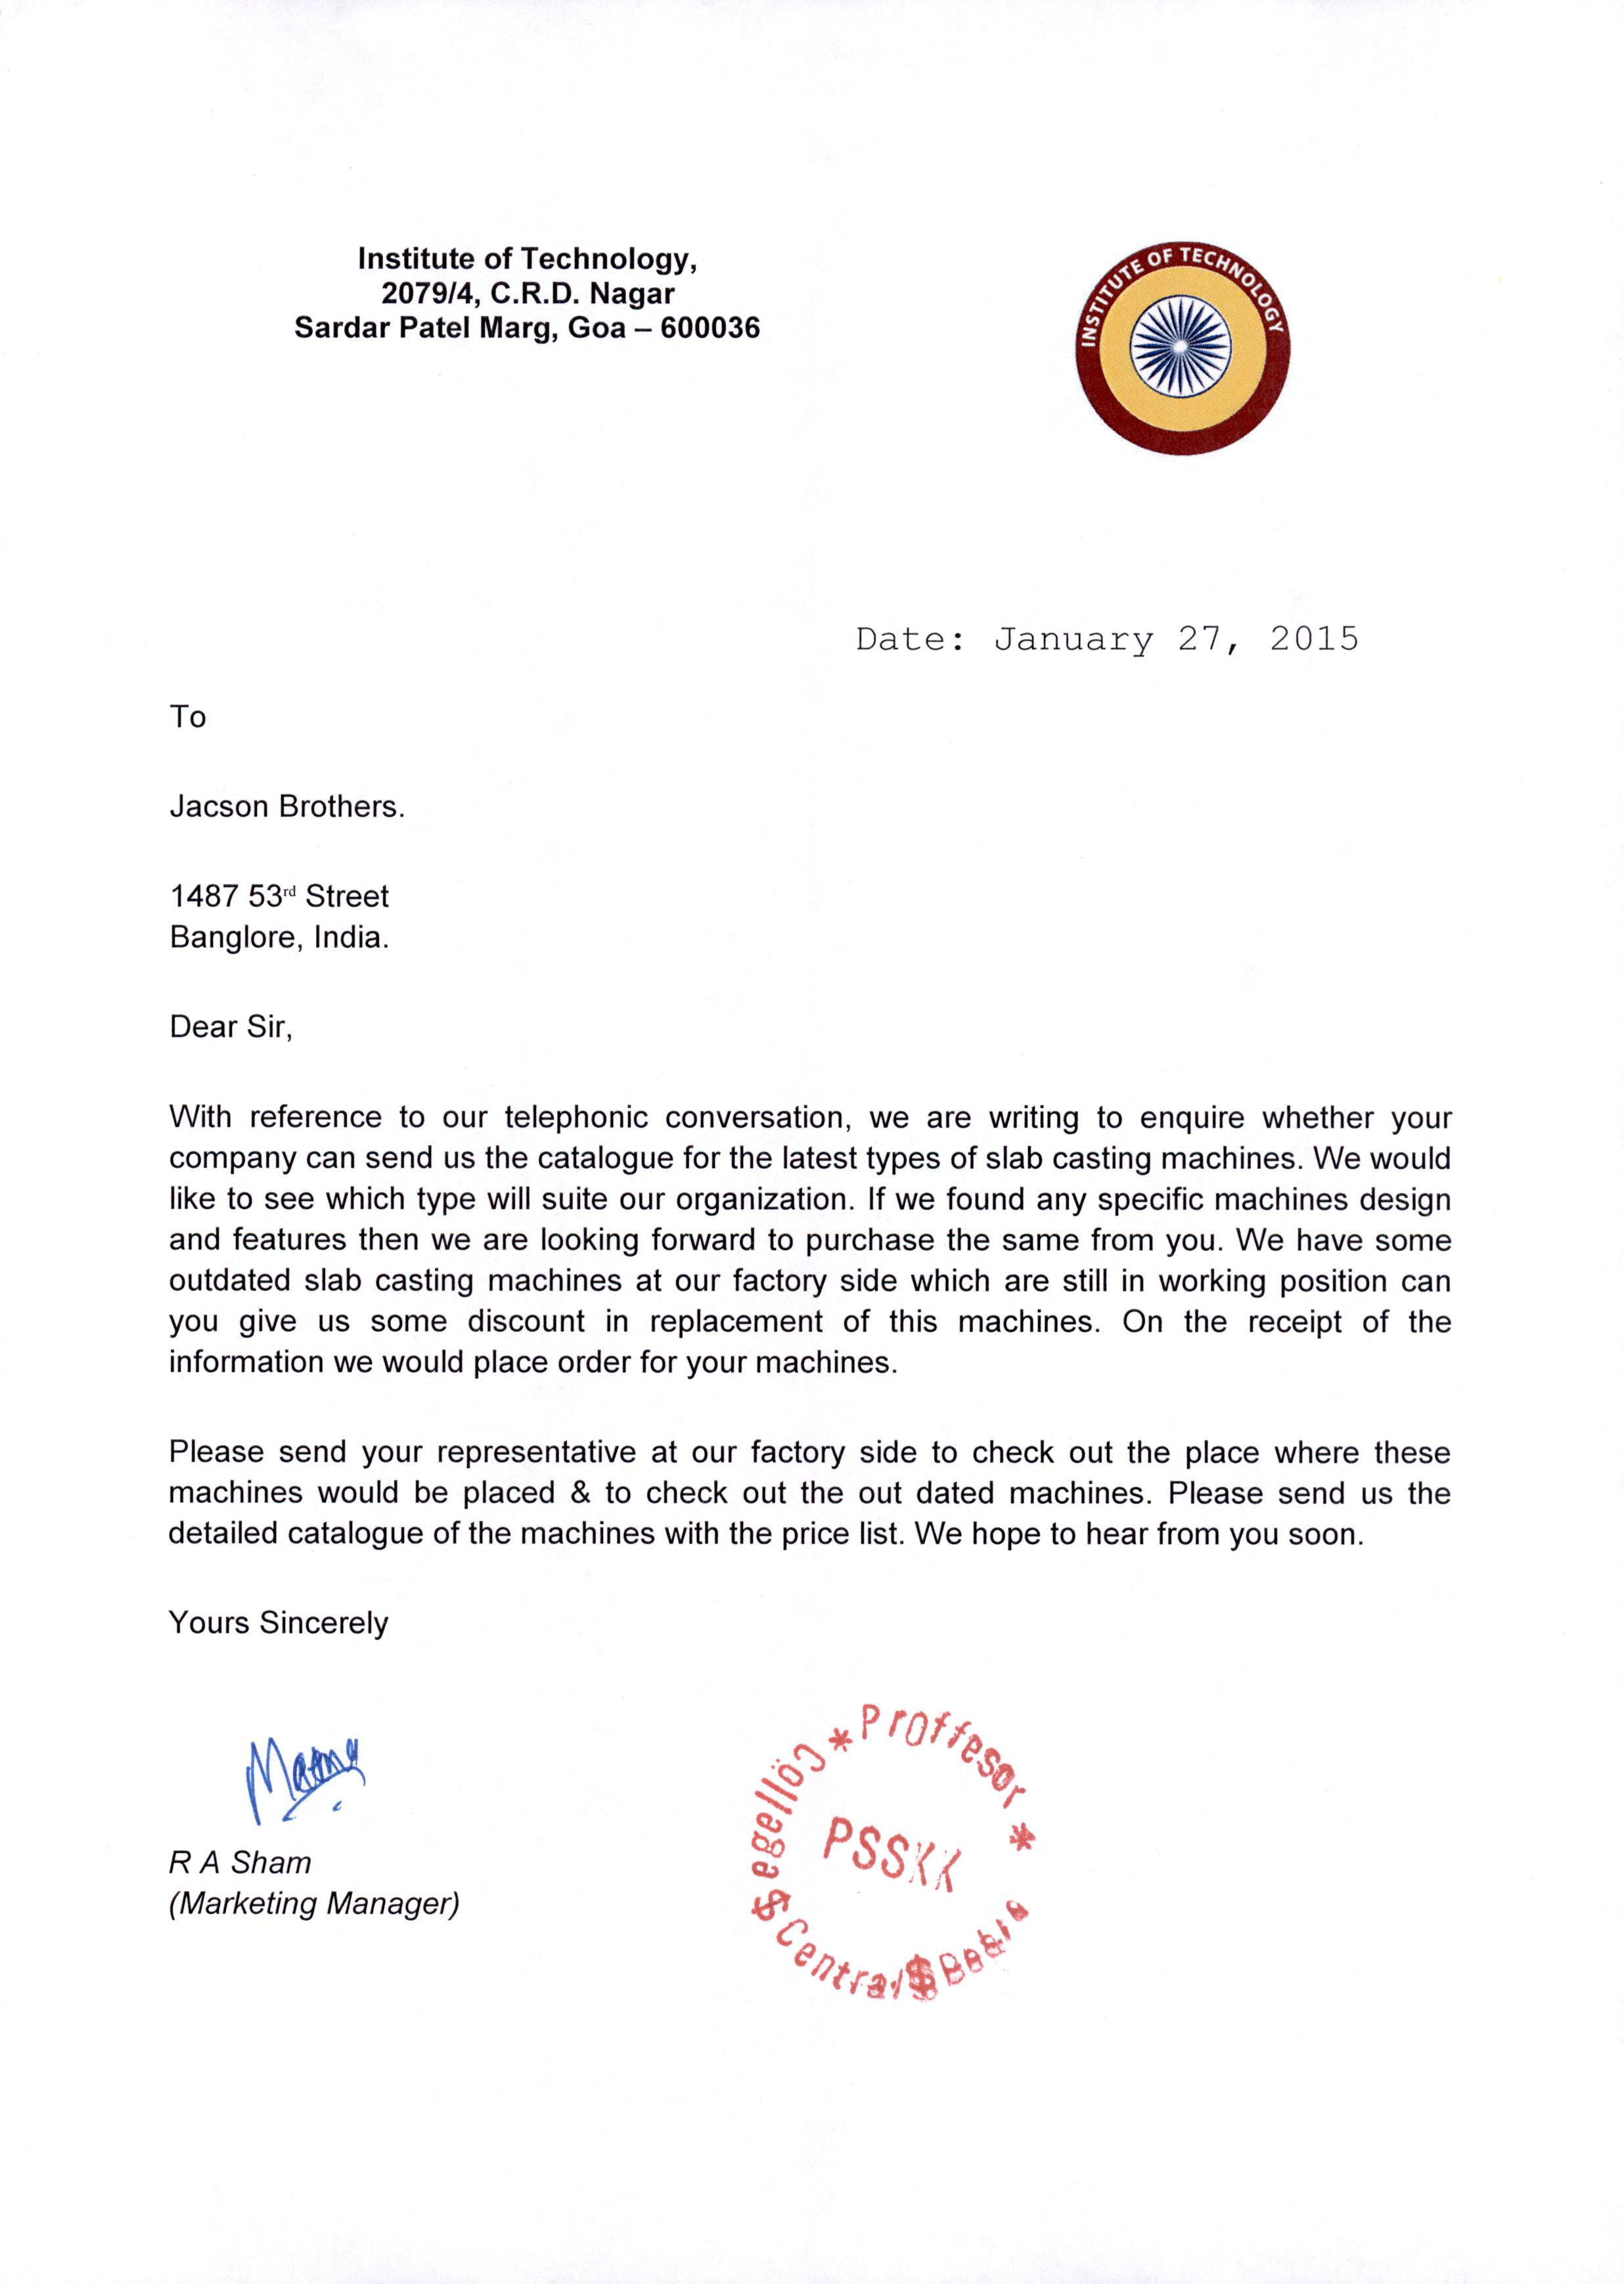Signature: (236, 1728, 374, 1830)
